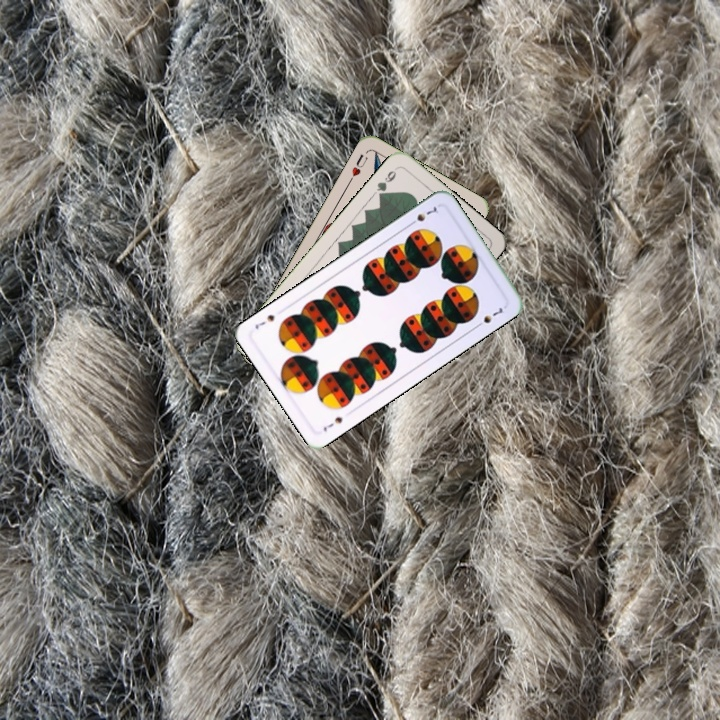G9: (372, 163, 400, 201)
HU: (345, 150, 370, 185)
S7: (405, 202, 441, 229), (319, 413, 346, 434)
